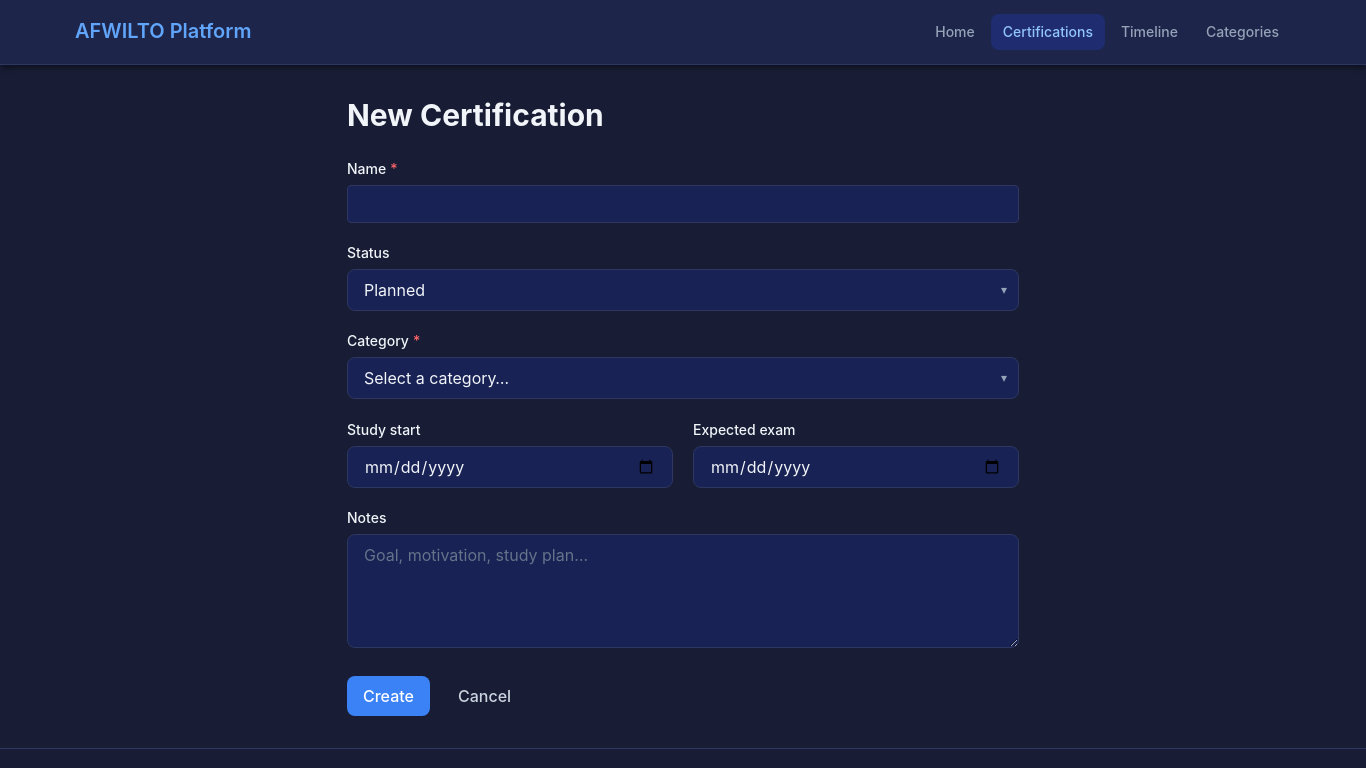
Test case: CertificationFormPage (create) › AC-5: service error on create shows error toast
The width and height of the screenshot is (1366, 768).
In the field labelled "Name*": (683, 204) x1=347 y1=184 x2=1019 y2=222, type "X"
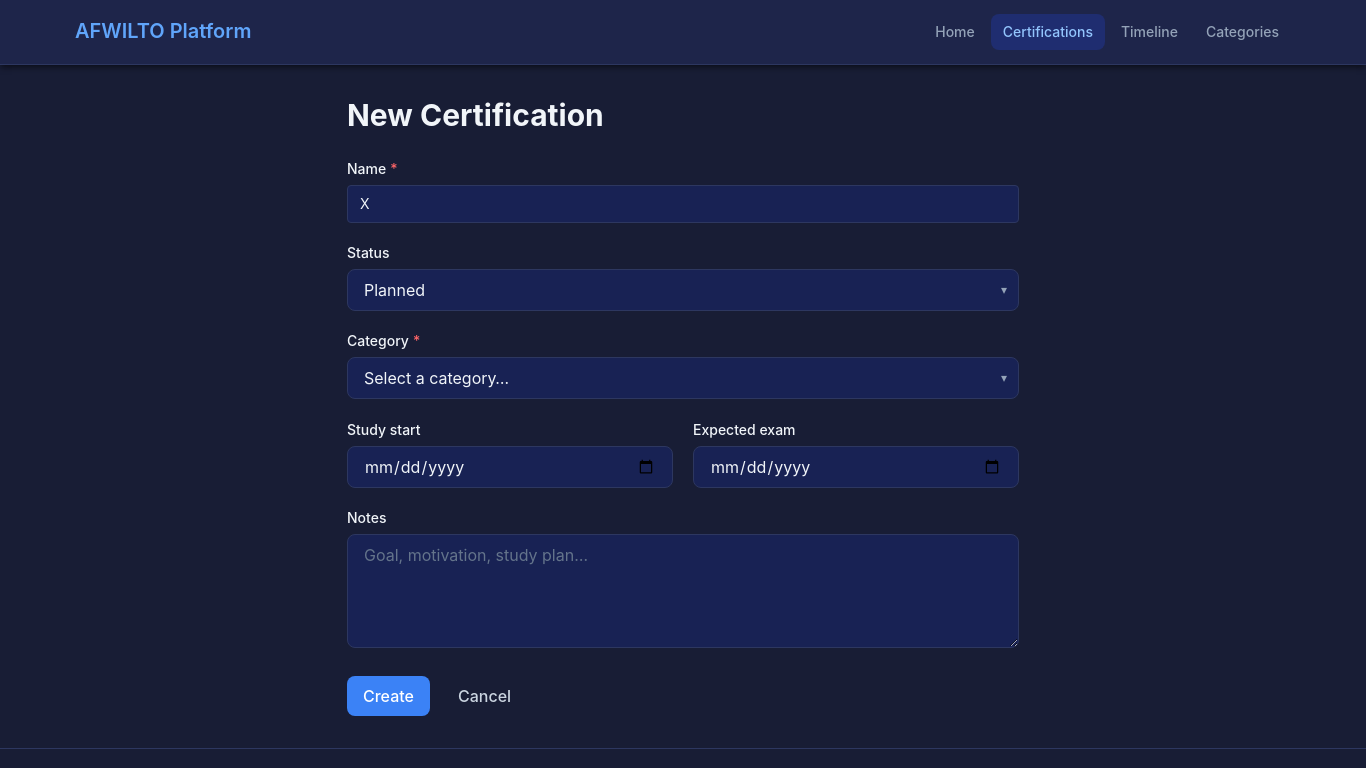
Select "TI / Cloud" in the dropdown labelled "Category*": (683, 378) x1=347 y1=356 x2=1019 y2=398
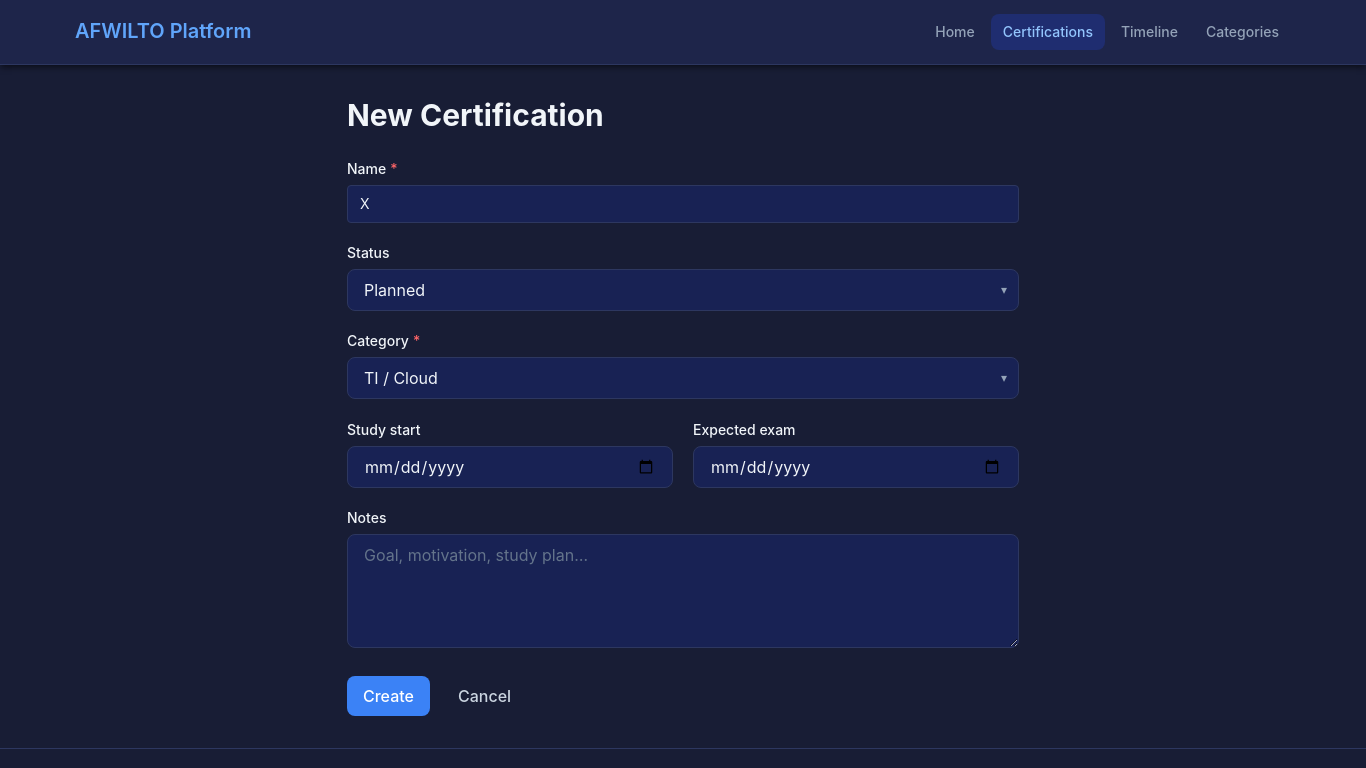
Click the button "Create": (388, 696) x1=347 y1=676 x2=430 y2=716
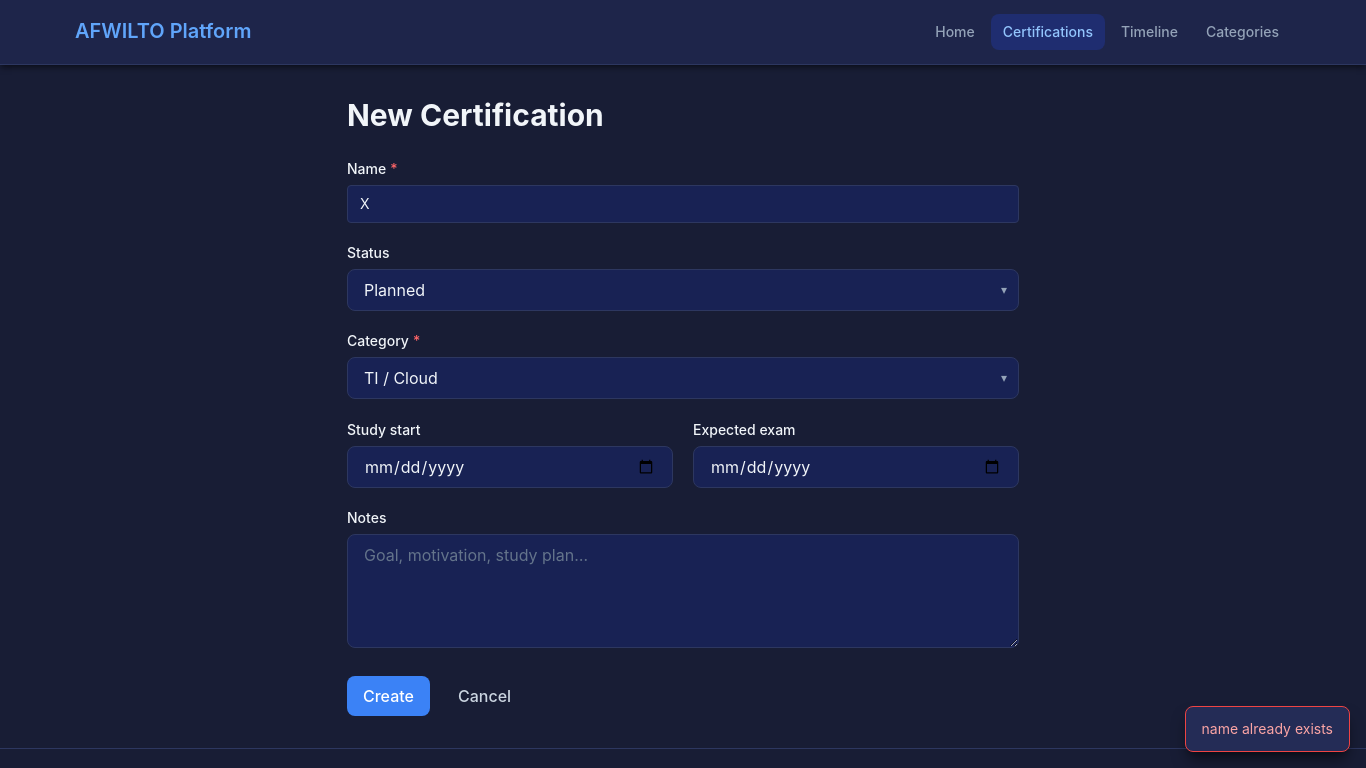
Now the text "name already exists" is shown, box x1=1184 y1=706 x2=1350 y2=752
